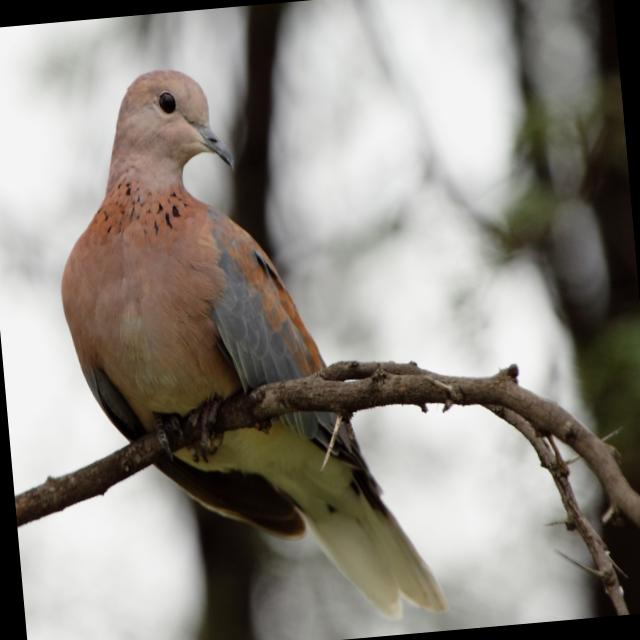bird: (37, 45, 449, 640)
